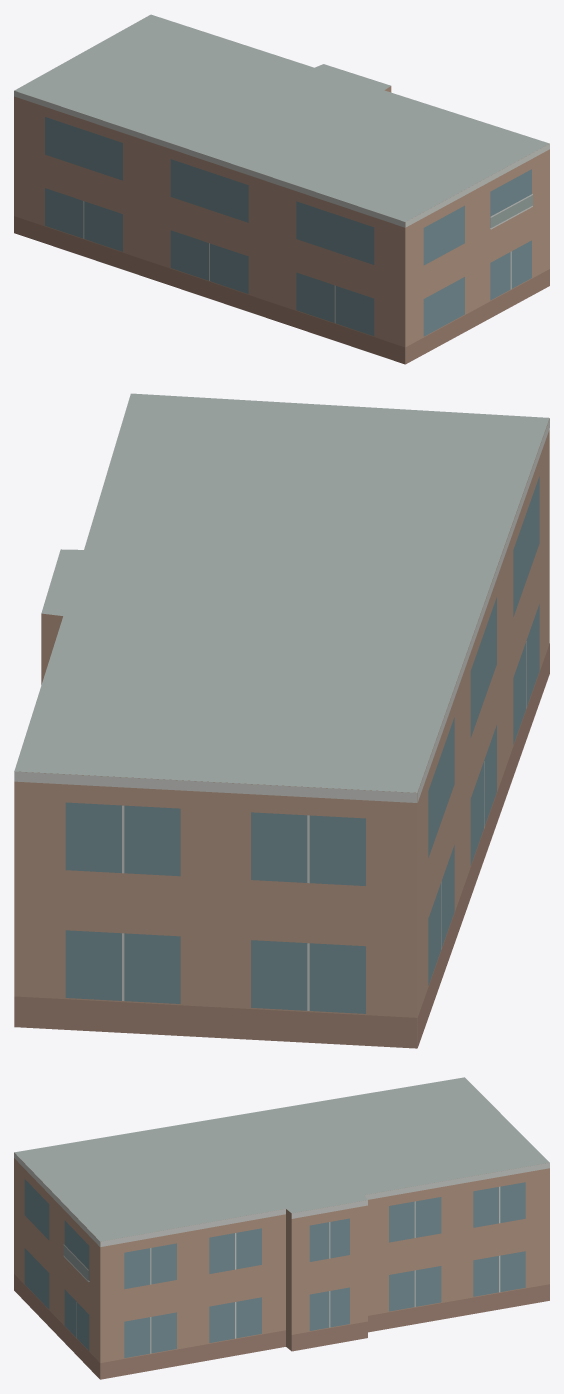
File: survey-upis-32839365.glb
The picture shows the model from 3 angles, top to bottom: view 1: azimuth 30°, elevation 25°; view 2: azimuth 150°, elevation 25°; view 3: azimuth 270°, elevation 25°; orthographic projection. The views are drawn at different scales.
Parts seen in each view (by area): view 1: survey-upis-32839365.tmp; view 2: survey-upis-32839365.tmp; view 3: survey-upis-32839365.tmp.
Boxes of the visible parts, <box> form: survey-upis-32839365.tmp: <box>14,14,549,364</box>; survey-upis-32839365.tmp: <box>14,393,549,1048</box>; survey-upis-32839365.tmp: <box>14,1077,549,1379</box>.
Size of the model in its own units: 15.6 by 6.1 by 21.47.
